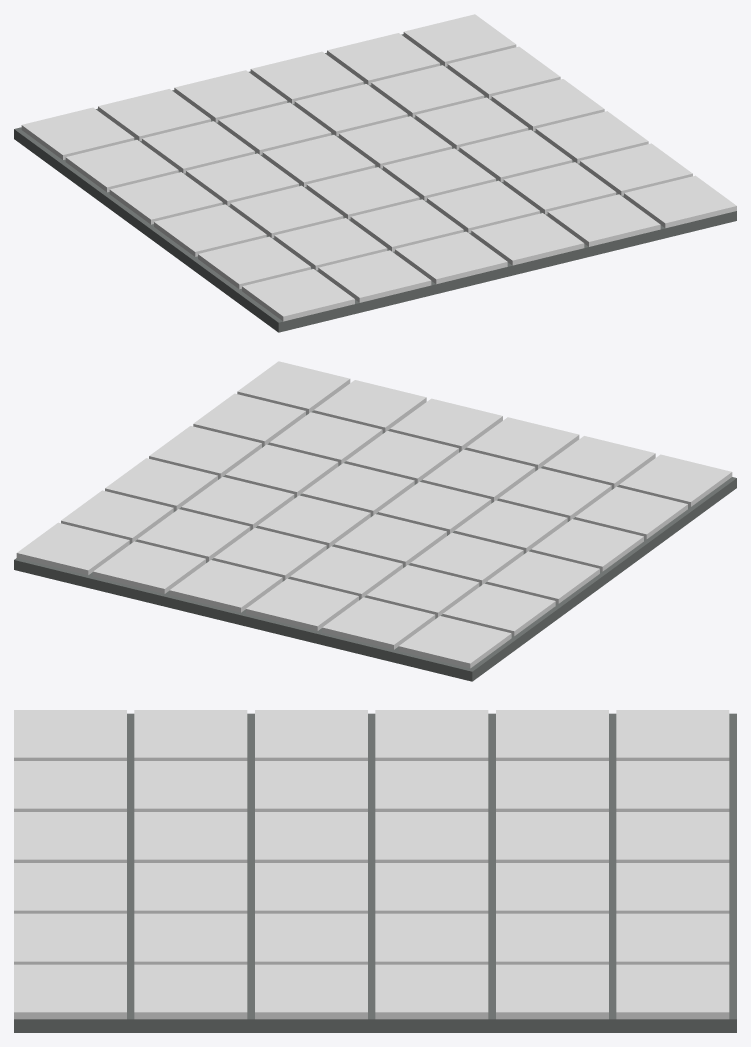
Rendered from Floor_3.obj.
The picture shows the model from 3 angles, top to bottom: view 1: azimuth 30°, elevation 25°; view 2: azimuth 150°, elevation 25°; view 3: azimuth 270°, elevation 25°; orthographic projection. The views are drawn at different scales.
Size of the model in its own units: 96 by 3 by 96.
